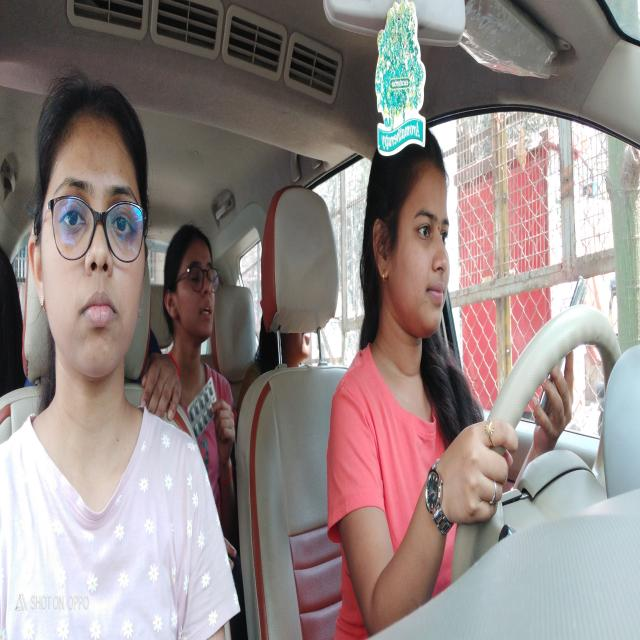mobile: (531, 258, 595, 432)
person: (23, 65, 165, 424), (374, 114, 460, 372), (158, 212, 226, 384)
